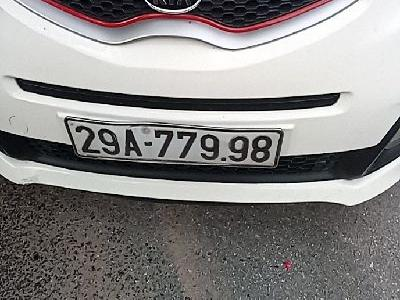lisence: (64, 115, 284, 170)
